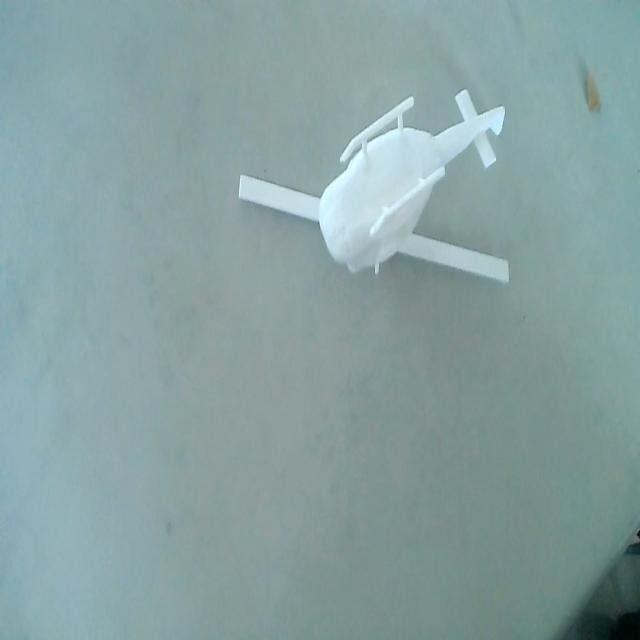Helicopter: (240, 78, 512, 286)
